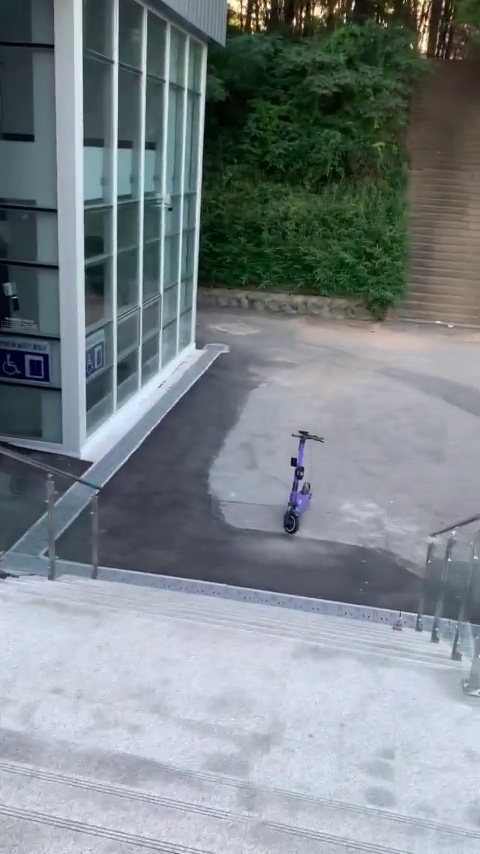beam: (275, 422, 335, 553)
